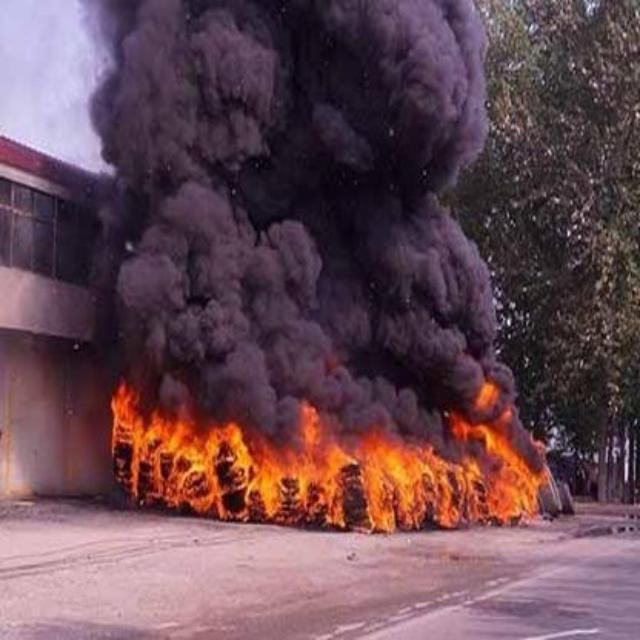Fire: (105, 378, 557, 532)
Smoke: (87, 7, 517, 375)
